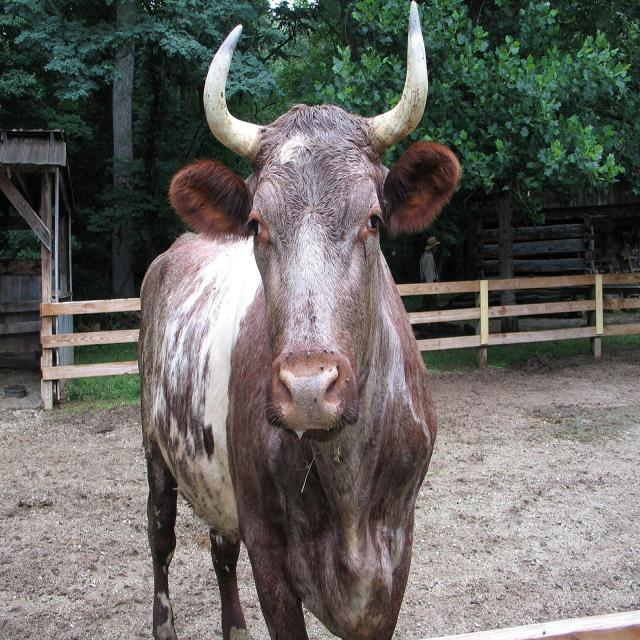Ox: (113, 0, 470, 625)
